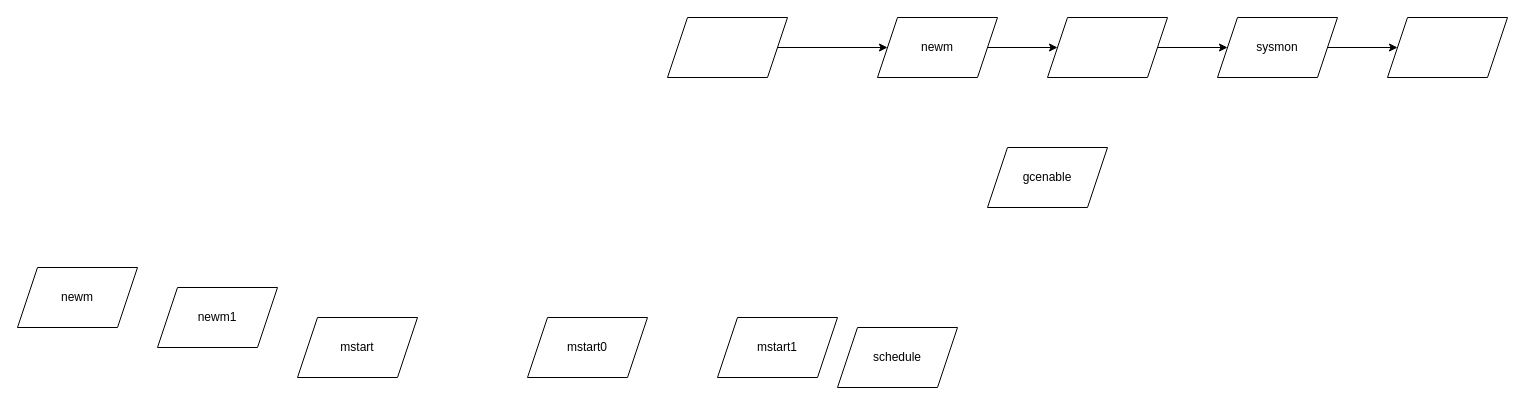
Some shapes in this 1525 by 405 pixel diagram are drawn without their labels. Each missing label, with the centre of its shape:
"acquirem" goes at (1107,47).
"retake" goes at (1447,47).
"runtime.main" goes at (727,47).
